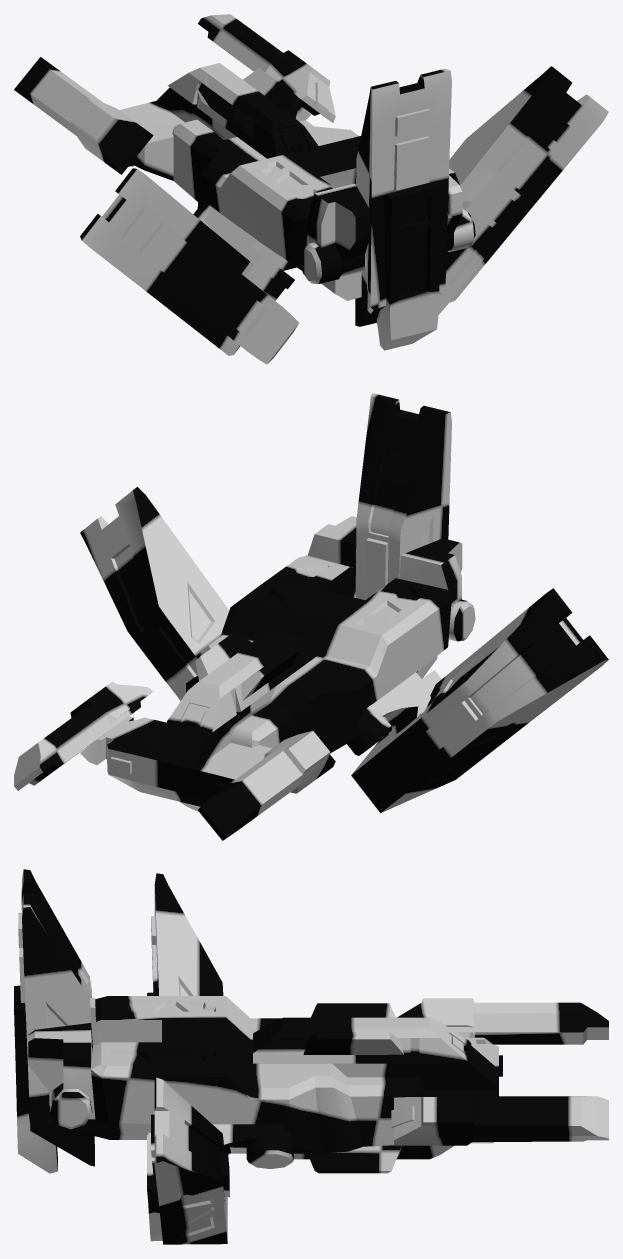
The model's file is pet_g_champion.obj.
3 renders of one model, top to bottom at view 1: azimuth 30°, elevation 25°; view 2: azimuth 150°, elevation 25°; view 3: azimuth 270°, elevation 25°, orthographic.
Parts seen in each view (by area): view 1: g_champion_pet; view 2: g_champion_pet; view 3: g_champion_pet.
Part boxes in pixels (box(x1,y1,x2,y2)): g_champion_pet: box(14, 14, 608, 364); g_champion_pet: box(14, 393, 608, 840); g_champion_pet: box(14, 869, 608, 1244).
Size of the model in its own units: 102 by 59.61 by 99.38.
Materials: 1 (1 with a texture image).
